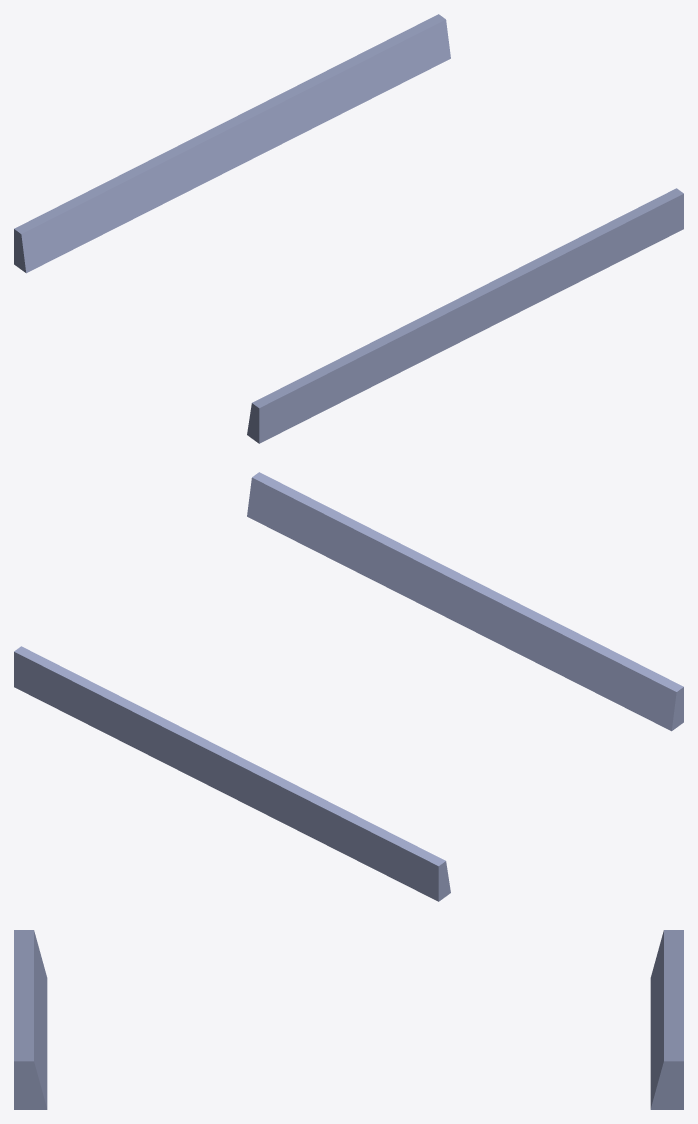
The model's file is road-slant-barrier.glb.
3 views of the same model, one above another, from view 1: azimuth 30°, elevation 25°; view 2: azimuth 150°, elevation 25°; view 3: azimuth 270°, elevation 25° (orthographic). The views are drawn at different scales.
Parts seen in each view (by area): view 1: road-slant-barrier; view 2: road-slant-barrier; view 3: road-slant-barrier.
Part boxes in pixels (x1=…): road-slant-barrier: x1=14, y1=14, x2=683, y2=443; road-slant-barrier: x1=14, y1=472, x2=683, y2=901; road-slant-barrier: x1=14, y1=930, x2=683, y2=1109.
Size of the model in its own units: 10 by 3.3 by 10.
1 material, 1 textured.
